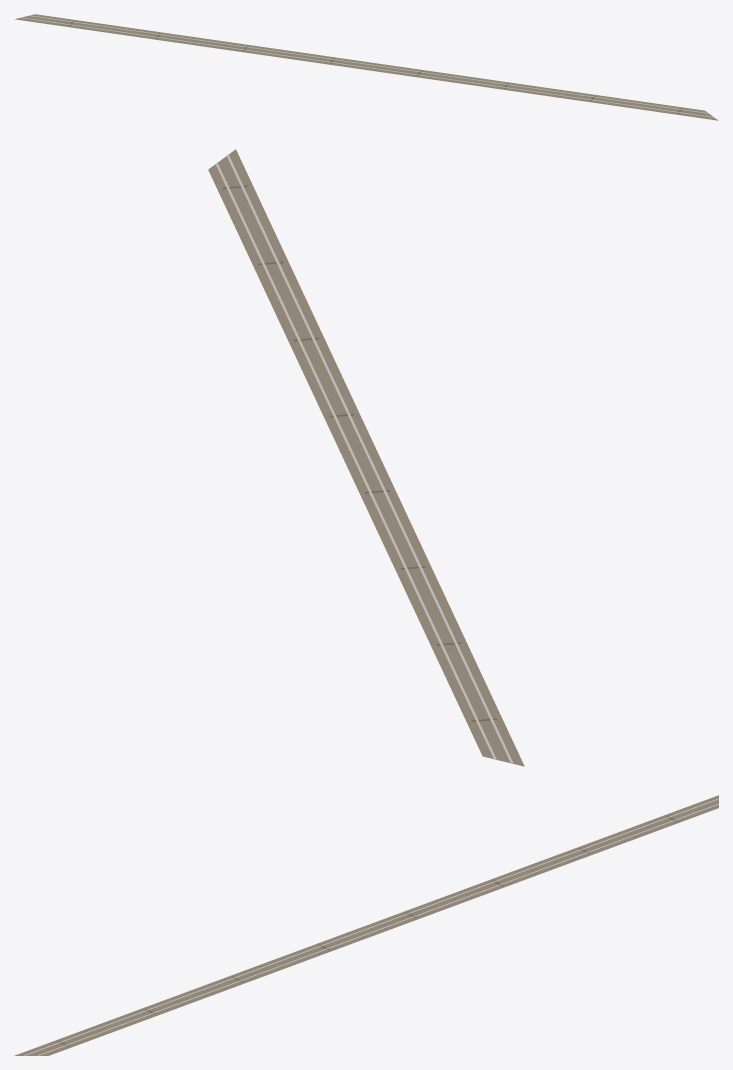
3 renders of one model, top to bottom at view 1: azimuth 30°, elevation 25°; view 2: azimuth 150°, elevation 25°; view 3: azimuth 270°, elevation 25°, orthographic. The views are drawn at different scales.
Parts seen in each view (by area): view 1: rail; view 2: rail; view 3: rail.
Boxes of the visible parts, box(x1,y1,x2,y2) form: rail: box(15, 14, 718, 120); rail: box(208, 149, 524, 766); rail: box(14, 795, 718, 1055).
Bounding box in the file's own units: 96.17 × 0.04 × 110.
